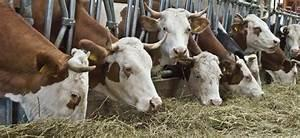cow: (0, 3, 94, 128), (74, 6, 167, 117), (143, 3, 211, 67), (227, 4, 284, 57)
